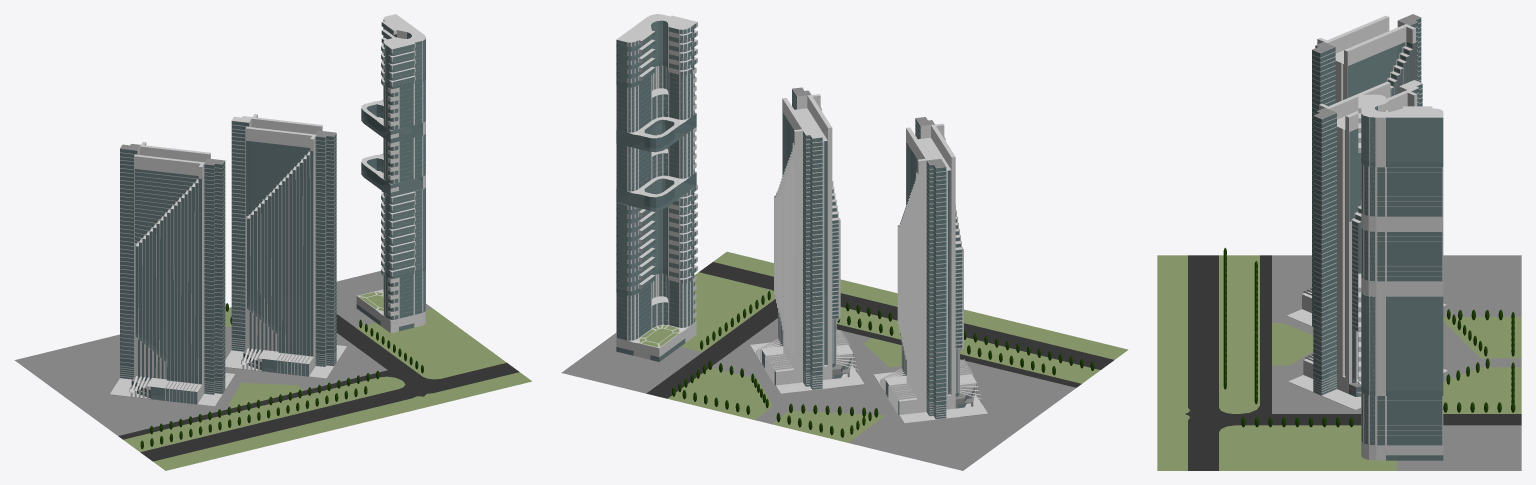
Rendered from sky_peak_towers.glb.
3 views of the same model, side by side, from view 1: azimuth 30°, elevation 25°; view 2: azimuth 150°, elevation 25°; view 3: azimuth 270°, elevation 25° (orthographic). The views are drawn at different scales.
Parts seen in each view (by area): view 1: Plane, Cube.004, Cube.019, Cube.021, Cube.007, Cube.020; view 2: Plane, Cube.004, Cube.021, Cube.020, Cube.007, Cube.019; view 3: Plane, Cube.021, Cube.004, Cube.007, Cube.020, Cube.019, Sphere.
Part boxes in pixels (<box>): Plane: <box>14,271,532,470</box>; Cube.004: <box>225,114,346,378</box>; Cube.019: <box>109,154,225,406</box>; Cube.021: <box>361,14,425,196</box>; Cube.007: <box>356,172,425,333</box>; Cube.020: <box>120,141,235,389</box>; Plane: <box>561,251,1128,470</box>; Cube.004: <box>750,87,864,393</box>; Cube.021: <box>616,14,697,210</box>; Cube.020: <box>873,127,946,423</box>; Cube.007: <box>616,184,697,361</box>; Cube.019: <box>915,117,987,418</box>; Plane: <box>1157,255,1521,470</box>; Cube.021: <box>1358,94,1443,296</box>; Cube.004: <box>1288,80,1447,410</box>; Cube.007: <box>1358,273,1443,460</box>; Cube.020: <box>1335,14,1446,306</box>; Cube.019: <box>1287,15,1389,326</box>; Sphere: <box>1241,417,1353,427</box>.
Bounding box in the file's own units: 280 × 208 × 200.
